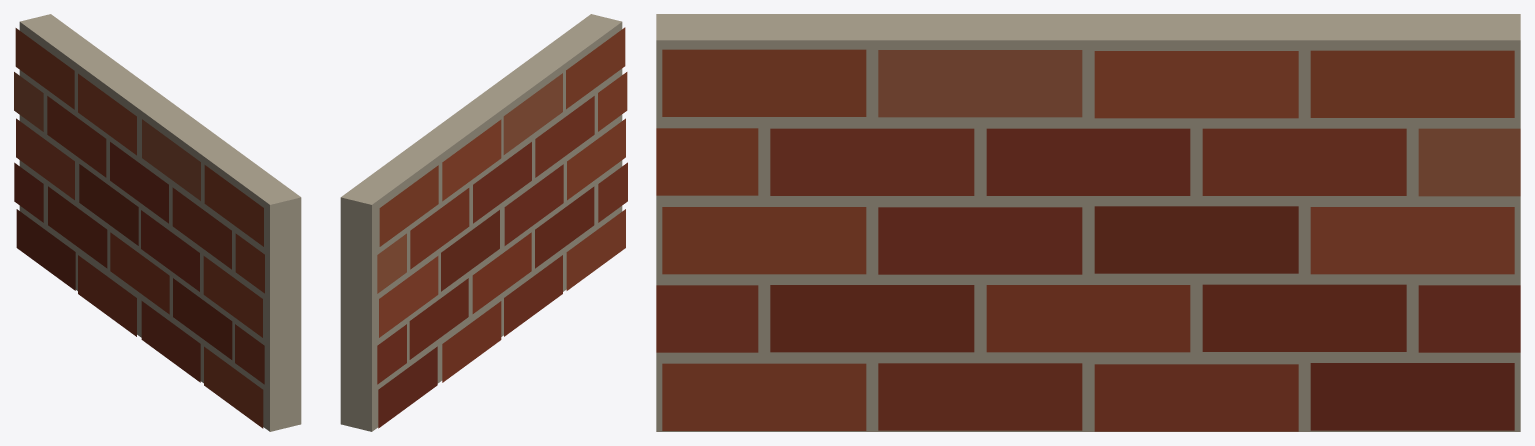
File: wall-brick-half.glb
The picture shows the model from 3 angles, left to right: view 1: azimuth 30°, elevation 25°; view 2: azimuth 150°, elevation 25°; view 3: azimuth 270°, elevation 25°; orthographic projection. The views are drawn at different scales.
Visible parts, largest first — view 1: wall-brick-half; view 2: wall-brick-half; view 3: wall-brick-half.
Part boxes in pixels (x1,y1,x2,y2): wall-brick-half: (14, 14, 301, 431); wall-brick-half: (340, 14, 627, 431); wall-brick-half: (656, 14, 1520, 431).
Size of the model in its own units: 0.0999 by 0.5 by 1.
